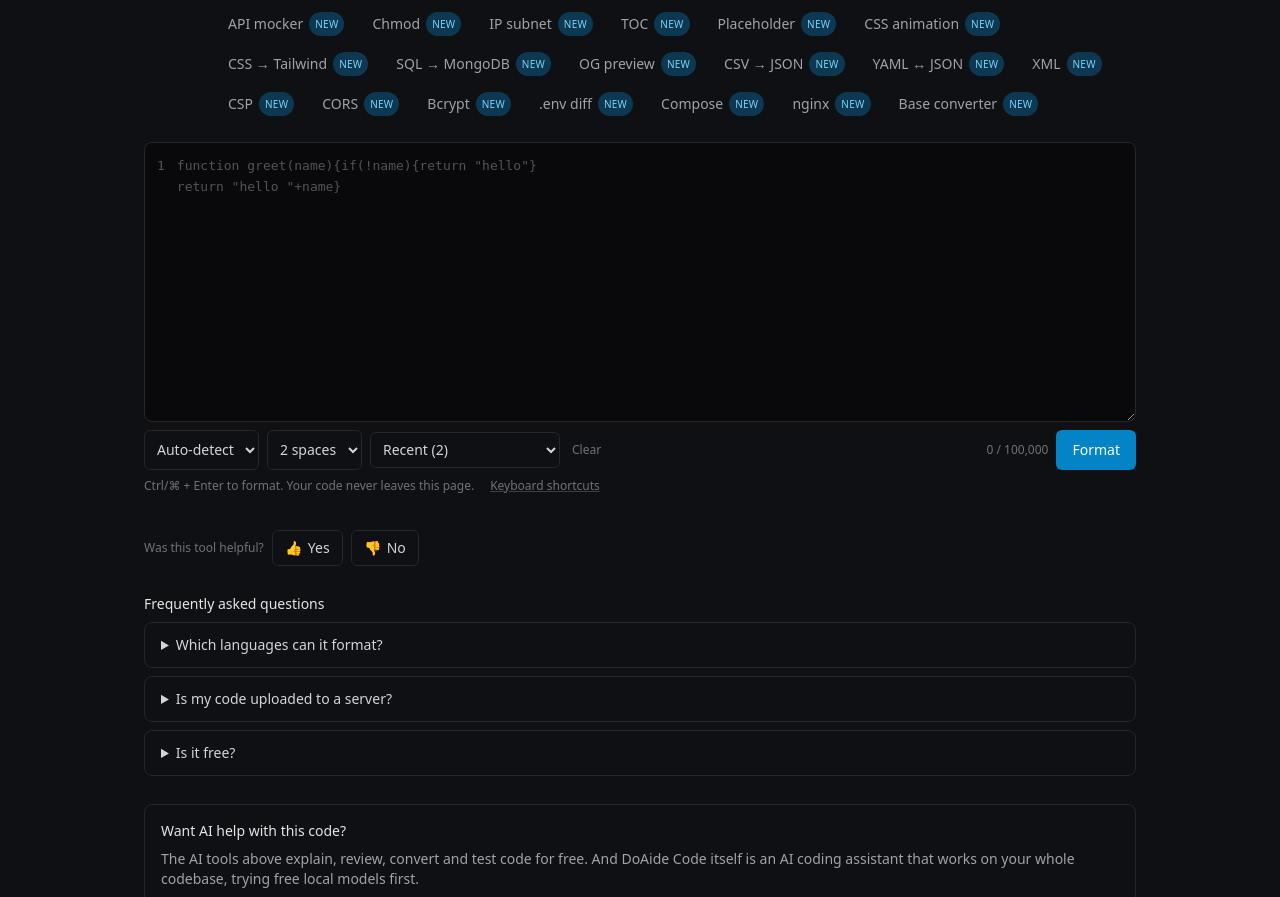
Test: FormatterPage › asks for code before formatting nothing
(page scrolled)
Click the button with test id "fmt-run" at (1096, 450), box [1056,430,1136,470]
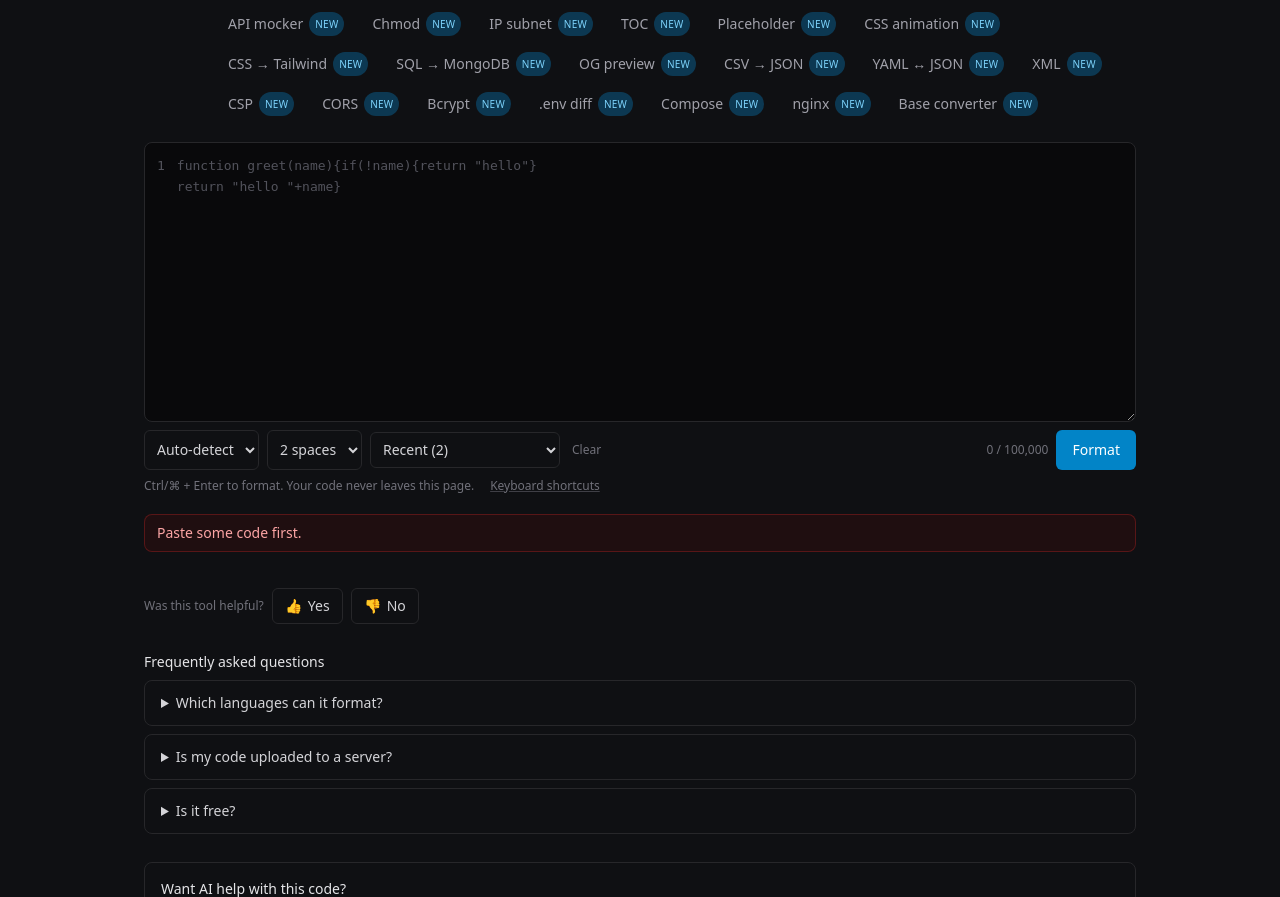
Check: the message with test id "fmt-error" reads "Paste some code first.", box [157,522,302,542]
